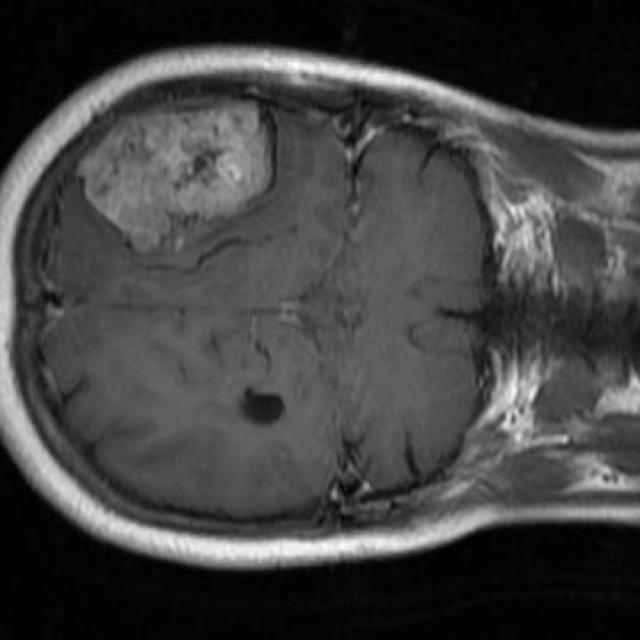meningioma: (80, 105, 273, 250)
